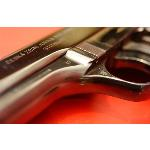Pistol: (1, 26, 150, 122)
